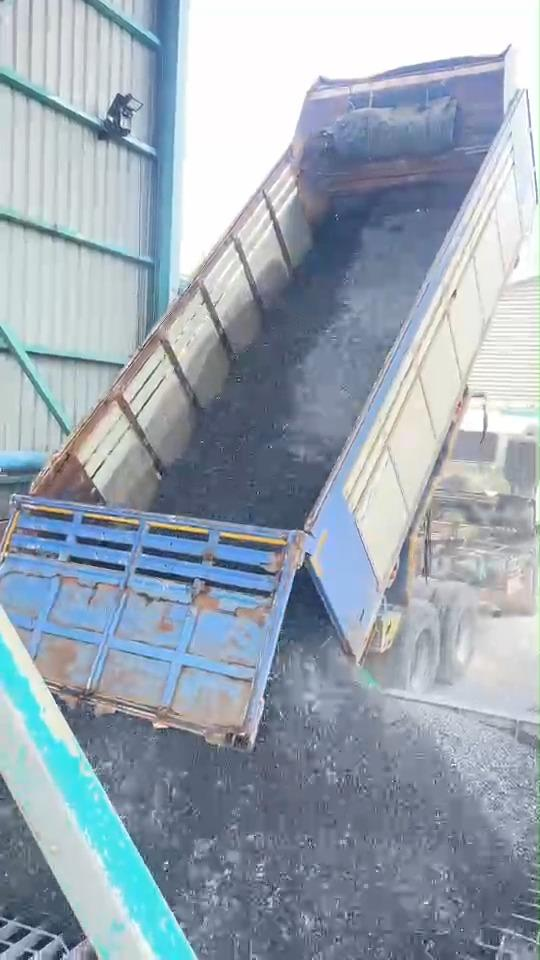gravel: (69, 577, 535, 959), (70, 586, 535, 959), (153, 188, 460, 527), (156, 204, 452, 525), (407, 703, 537, 866), (0, 790, 77, 936), (0, 798, 72, 931), (531, 850, 533, 859), (163, 958, 173, 959), (36, 784, 38, 788), (531, 854, 533, 857)
